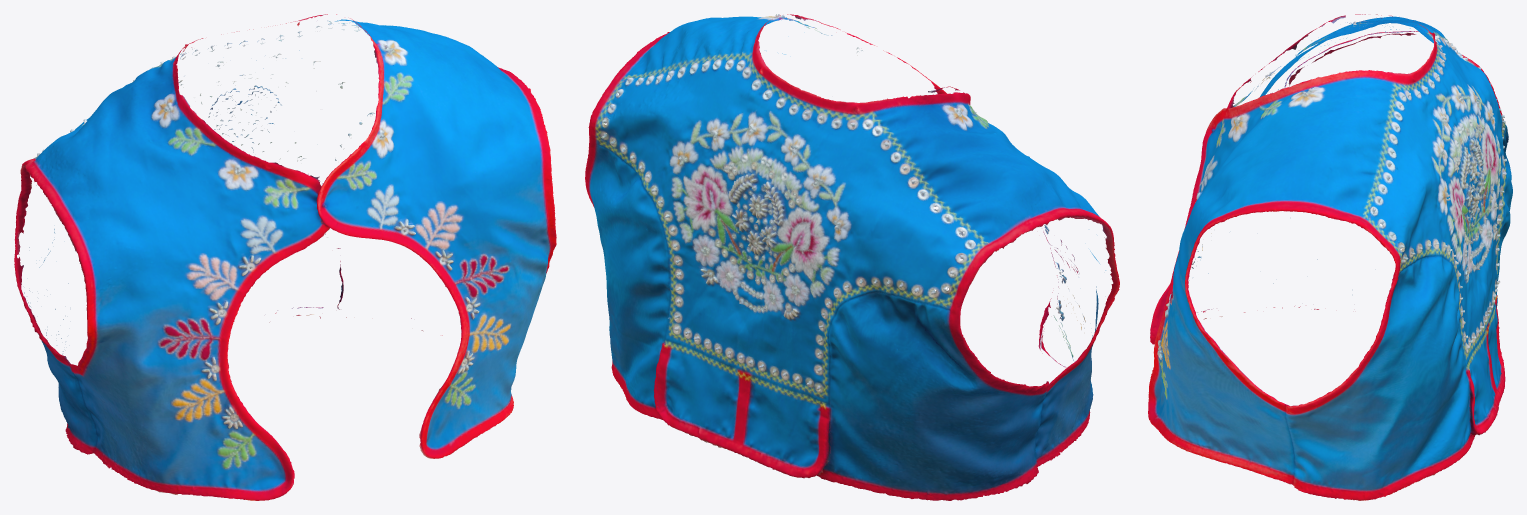
The model's file is 06009e54-03a4-4a2f-9d30-f9385611167b-kordula3.glb.
The picture shows the model from 3 angles, left to right: view 1: azimuth 30°, elevation 25°; view 2: azimuth 150°, elevation 25°; view 3: azimuth 270°, elevation 25°; orthographic projection. The views are drawn at different scales.
Visible parts, largest first — view 1: kordula; view 2: kordula; view 3: kordula.
Boxes of the visible parts, x1,y1,x2,y2 form: kordula: (14,14,556,500); kordula: (585,14,1119,500); kordula: (1148,14,1512,500).
Size of the model in its own units: 0.4473 by 0.3404 by 0.3044.
Materials: 1 (1 with a texture image).
